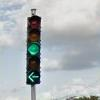traffic lights: (26, 14, 42, 86)
